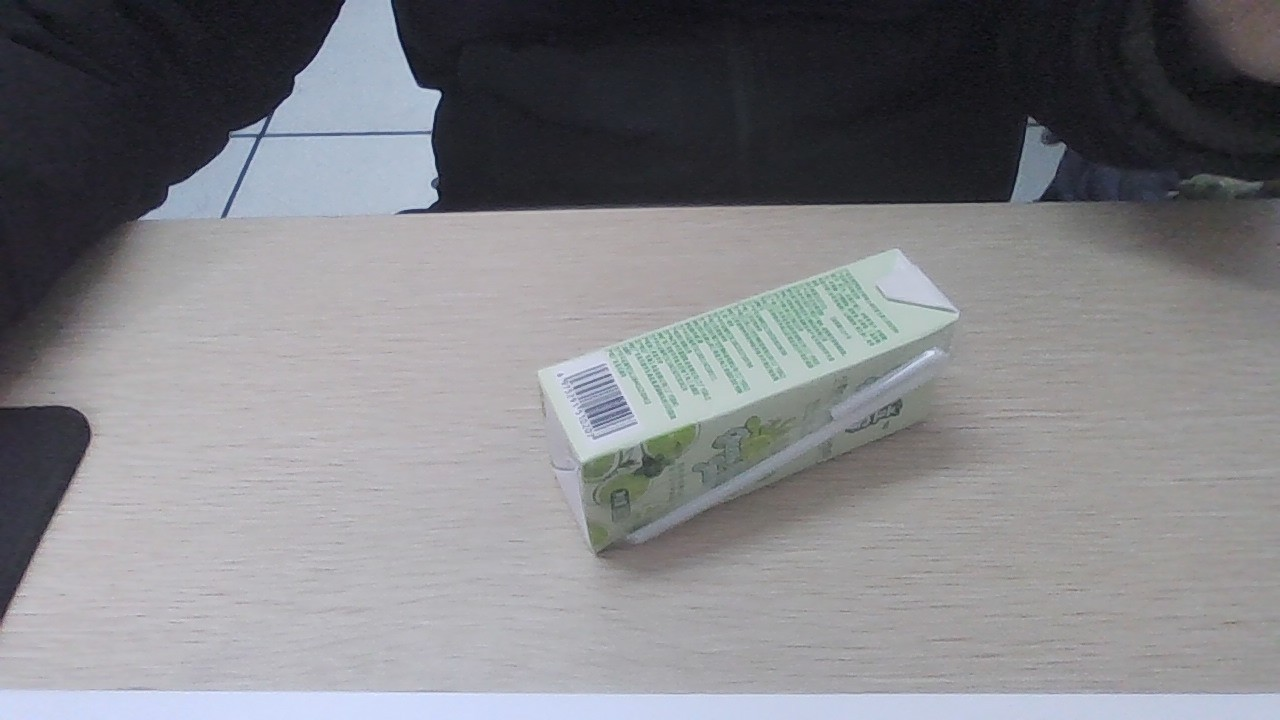CY-drink: (544, 251, 942, 526)
